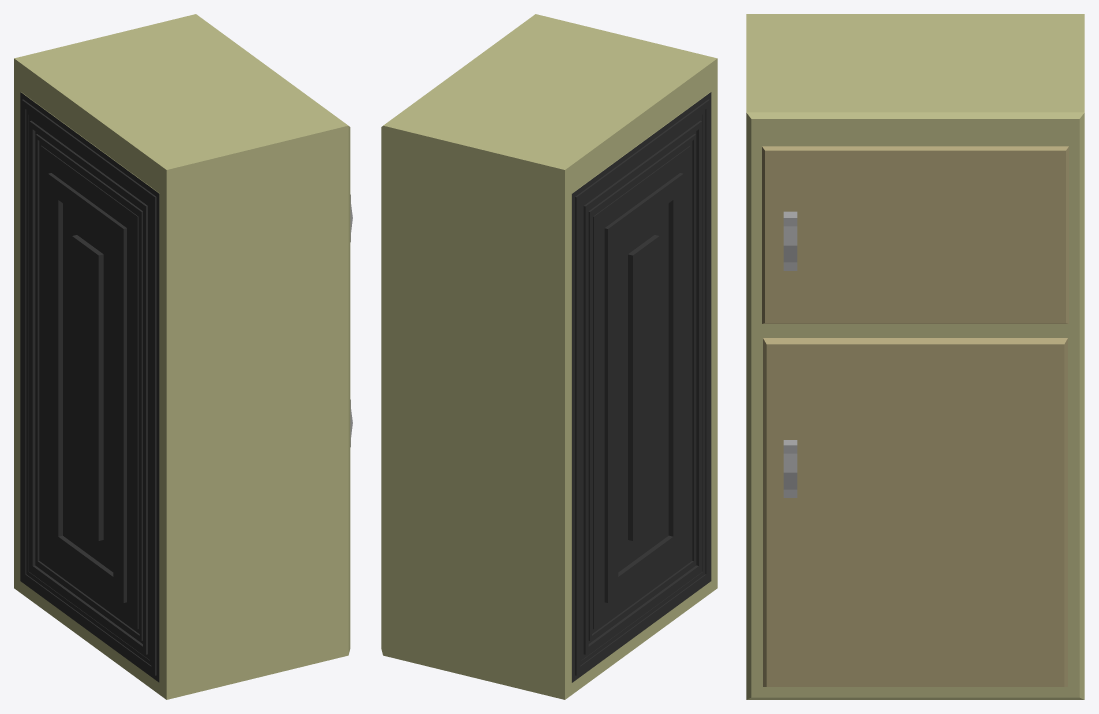
The model's file is LowPoly_Fridge.fbx.
3 renders of one model, left to right at view 1: azimuth 30°, elevation 25°; view 2: azimuth 150°, elevation 25°; view 3: azimuth 270°, elevation 25°, orthographic. The views are drawn at different scales.
Parts seen in each view (by area): view 1: Handle; view 2: Handle; view 3: Handle.
Boxes of the visible parts, bbox=[...] form: Handle: bbox=[14, 14, 352, 699]; Handle: bbox=[381, 14, 717, 699]; Handle: bbox=[746, 14, 1084, 699].
Size of the model in its own units: 186 by 452 by 236.
